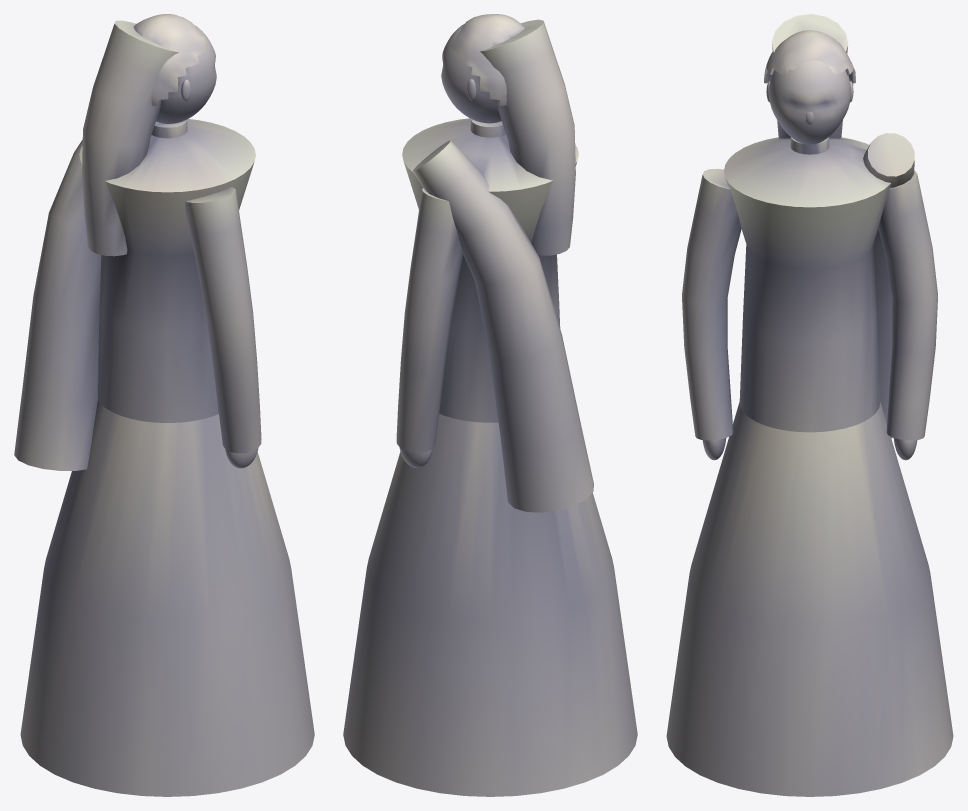
File: malati.glb
The picture shows the model from 3 angles, left to right: view 1: azimuth 30°, elevation 25°; view 2: azimuth 150°, elevation 25°; view 3: azimuth 270°, elevation 25°; orthographic projection. The views are drawn at different scales.
Visible parts, largest first — view 1: body; view 2: body; view 3: body.
Part boxes in pixels (x1,y1,x2,y2): body: (14, 14, 314, 796); body: (343, 14, 637, 796); body: (666, 14, 953, 796).
Size of the model in its own units: 0.6 by 1.64 by 0.6.
